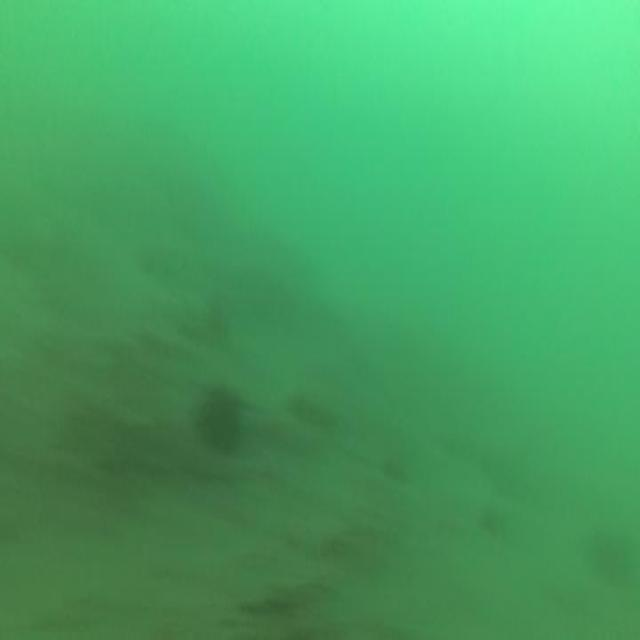echinus: (196, 384, 244, 458), (589, 524, 624, 588), (203, 294, 229, 340)
